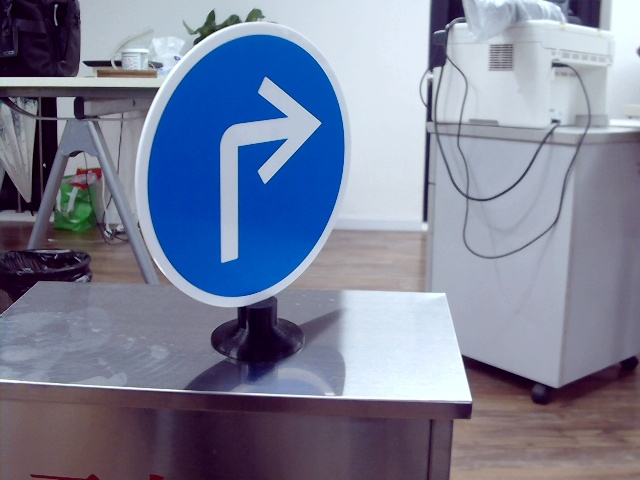turn_right: (203, 75, 313, 255)
